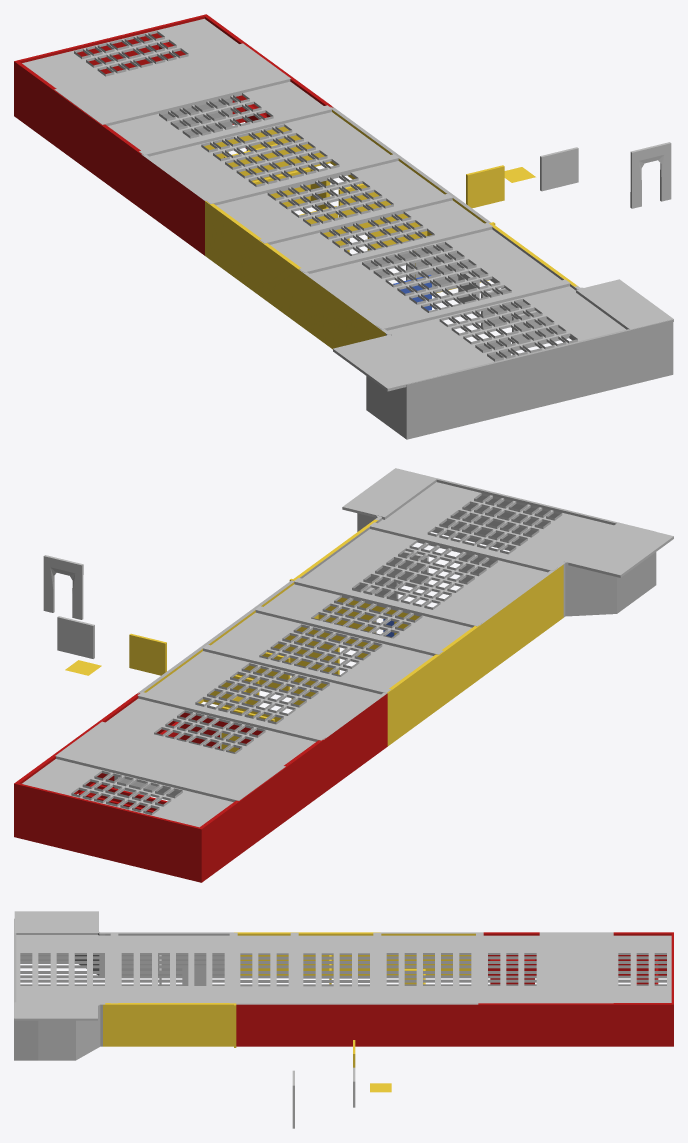
The model's file is museeV16.obj.
3 renders of one model, top to bottom at view 1: azimuth 30°, elevation 25°; view 2: azimuth 150°, elevation 25°; view 3: azimuth 270°, elevation 25°, orthographic. The views are drawn at different scales.
Parts seen in each view (by area): view 1: Plane.009_Plane.013, Wall.042_Wall.045, Wall.028_Wall.001, Wall.030_Wall.014, Wall.036_Wall.033, Wall.004_Wall.009, Wall.024_Wall.037, Wall.014_Wall.027, Wall.044_Wall.047, Plane.003_Plane.001, Wall.013_Wall.026, Wall.008_Wall.022 (+4 smaller); view 2: Plane.009_Plane.013, Wall.037_Wall.041, Wall.004_Wall.009, Wall.028_Wall.001, Wall.044_Wall.047, Wall.036_Wall.033, Wall.030_Wall.014, Wall.024_Wall.037, Wall.042_Wall.045, Wall.014_Wall.027, Plane.003_Plane.001, Wall.013_Wall.026 (+4 smaller); view 3: Plane.009_Plane.013, Wall.027_Wall, Wall.003_Wall.006, Wall.033_Wall.021, Wall_Wall.030, Wall.018_Wall.031, Wall.041_Wall.017, Wall.004_Wall.009, Wall.043_Wall.046, Wall.028_Wall.001, Wall.024_Wall.037, Wall.014_Wall.027 (+3 smaller).
Boxes of the visible parts, bbox=[...] form: Plane.009_Plane.013: bbox=[22, 18, 673, 391]; Wall.042_Wall.045: bbox=[409, 320, 671, 438]; Wall.028_Wall.001: bbox=[141, 142, 218, 255]; Wall.030_Wall.014: bbox=[76, 107, 141, 208]; Wall.036_Wall.033: bbox=[14, 60, 77, 162]; Wall.004_Wall.009: bbox=[300, 260, 388, 349]; Wall.024_Wall.037: bbox=[205, 201, 261, 296]; Wall.014_Wall.027: bbox=[260, 241, 300, 325]; Wall.044_Wall.047: bbox=[366, 334, 409, 439]; Plane.003_Plane.001: bbox=[630, 142, 671, 208]; Wall.013_Wall.026: bbox=[540, 147, 578, 191]; Wall.008_Wall.022: bbox=[466, 165, 504, 208]; Plane.009_Plane.013: bbox=[22, 468, 673, 827]; Wall.037_Wall.041: bbox=[17, 783, 198, 881]; Wall.004_Wall.009: bbox=[404, 563, 563, 677]; Wall.028_Wall.001: bbox=[248, 692, 387, 792]; Wall.044_Wall.047: bbox=[563, 531, 656, 616]; Wall.036_Wall.033: bbox=[198, 784, 263, 882]; Wall.030_Wall.014: bbox=[262, 738, 325, 837]; Wall.024_Wall.037: bbox=[387, 653, 441, 746]; Wall.042_Wall.045: bbox=[432, 478, 652, 550]; Wall.014_Wall.027: bbox=[441, 625, 480, 706]; Plane.003_Plane.001: bbox=[43, 555, 83, 619]; Wall.013_Wall.026: bbox=[57, 616, 94, 658]; Plane.009_Plane.013: bbox=[14, 911, 671, 1020]; Wall.027_Wall: bbox=[331, 1003, 480, 1046]; Wall.003_Wall.006: bbox=[103, 1003, 236, 1047]; Wall.033_Wall.021: bbox=[478, 1003, 578, 1046]; Wall_Wall.030: bbox=[576, 1003, 673, 1046]; Wall.018_Wall.031: bbox=[236, 1003, 331, 1046]; Wall.041_Wall.017: bbox=[38, 1003, 100, 1060]; Wall.004_Wall.009: bbox=[103, 932, 233, 975]; Wall.043_Wall.046: bbox=[14, 1018, 38, 1060]; Wall.028_Wall.001: bbox=[381, 932, 475, 975]; Wall.024_Wall.037: bbox=[295, 932, 380, 975]; Wall.014_Wall.027: bbox=[234, 932, 294, 975].
Size of the model in its own units: 118 by 13.68 by 189.
